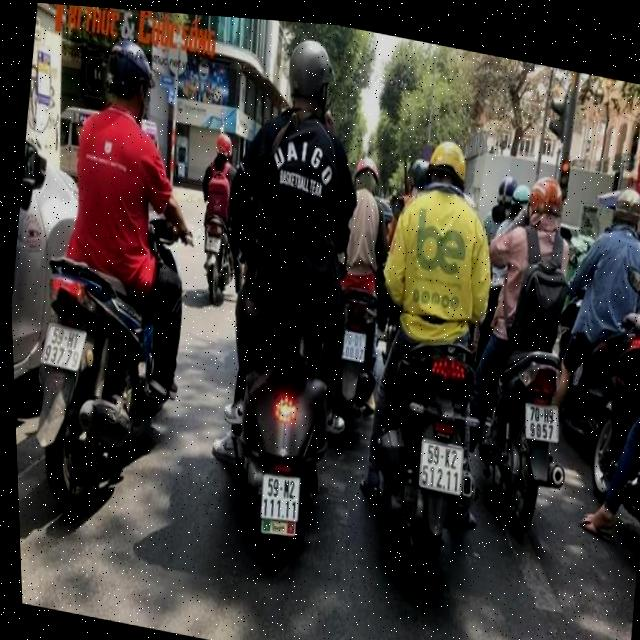motorcycle: (9, 230, 177, 534), (342, 290, 501, 610), (196, 295, 355, 576), (466, 327, 587, 553), (558, 297, 640, 561), (323, 284, 383, 413), (191, 205, 241, 314)
plate: (250, 460, 308, 545), (412, 428, 473, 502), (34, 312, 94, 381), (517, 392, 566, 450), (334, 321, 372, 369)
